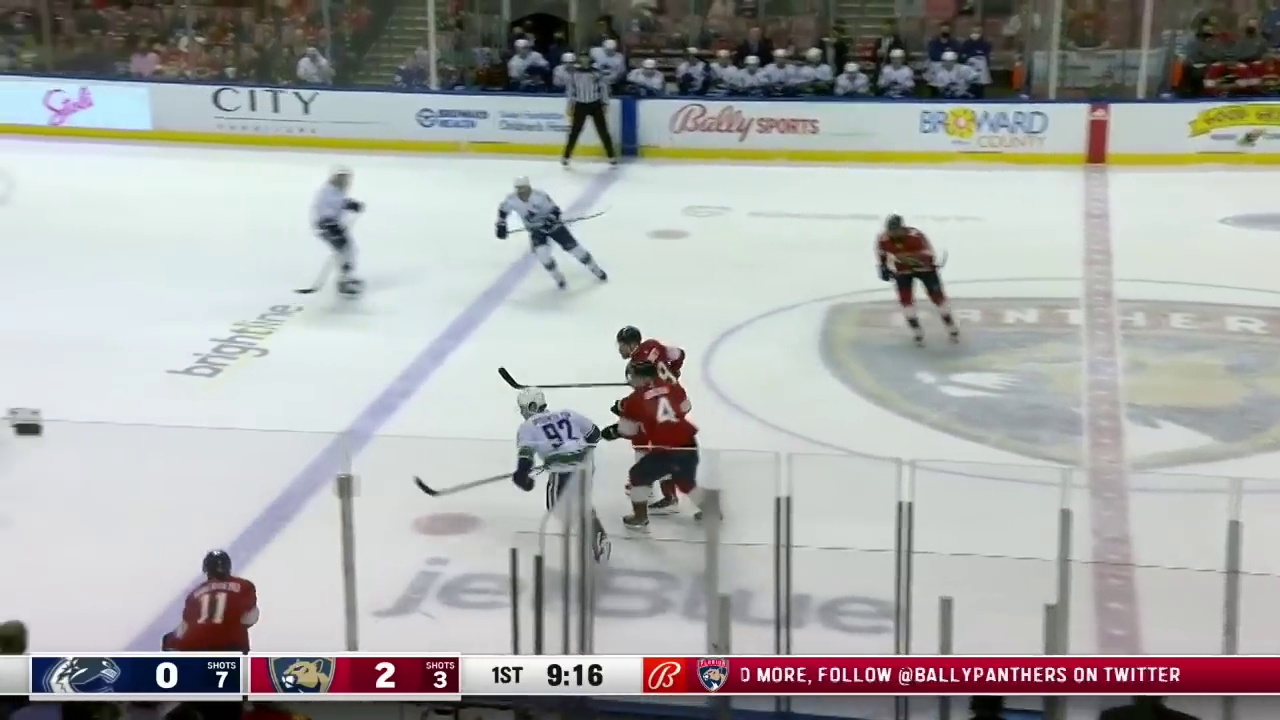hockeyplayer: (601, 360, 724, 534), (511, 387, 612, 566), (610, 326, 686, 516), (495, 175, 608, 291), (872, 213, 959, 349), (162, 549, 261, 651), (310, 163, 365, 298)
referee: (561, 51, 616, 168)
